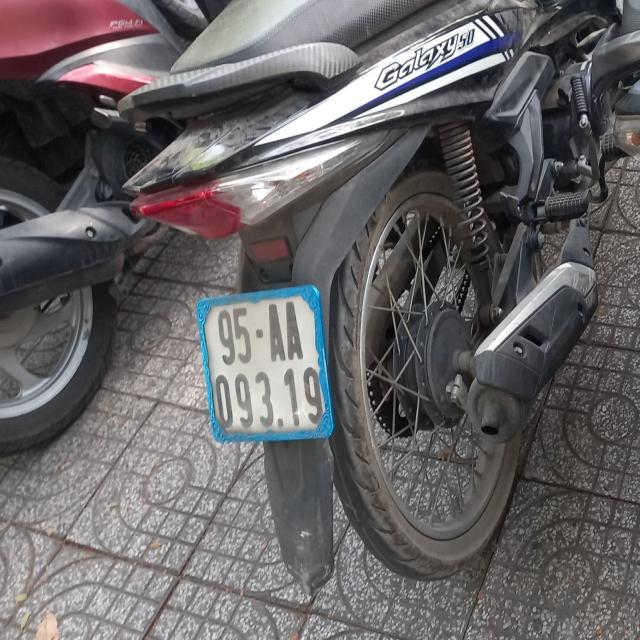0: (215, 372, 233, 430)
1: (303, 366, 324, 425), (283, 369, 298, 425)
3: (255, 372, 274, 429)
5: (234, 304, 252, 364)
9: (235, 374, 255, 428), (217, 311, 235, 364)
A: (267, 304, 285, 362), (284, 302, 302, 359)
